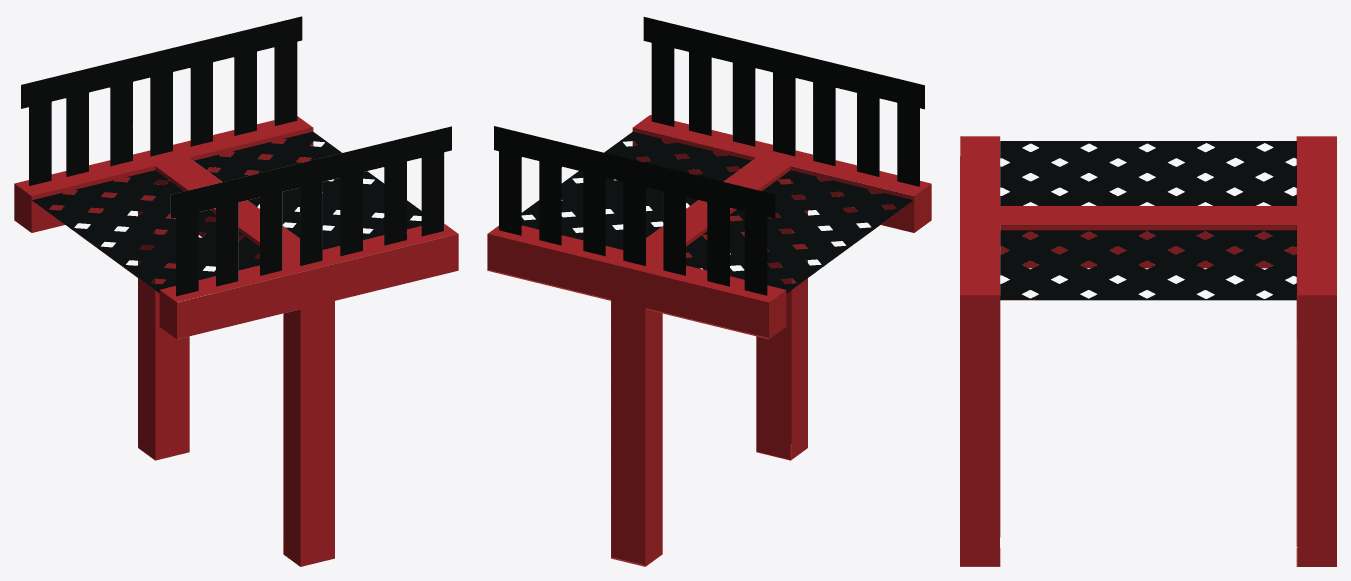
Rendered from catwalk.fbx.
The picture shows the model from 3 angles, left to right: view 1: azimuth 30°, elevation 25°; view 2: azimuth 150°, elevation 25°; view 3: azimuth 270°, elevation 25°; orthographic projection. The views are drawn at different scales.
Parts seen in each view (by area): view 1: catwalk; view 2: catwalk; view 3: catwalk.
Boxes of the visible parts, x1,y1,x2,y2 form: catwalk: (14,16,458,566); catwalk: (487,17,931,566); catwalk: (960,136,1336,566).
Bounding box in the file's own units: 200 × 272 × 200.
